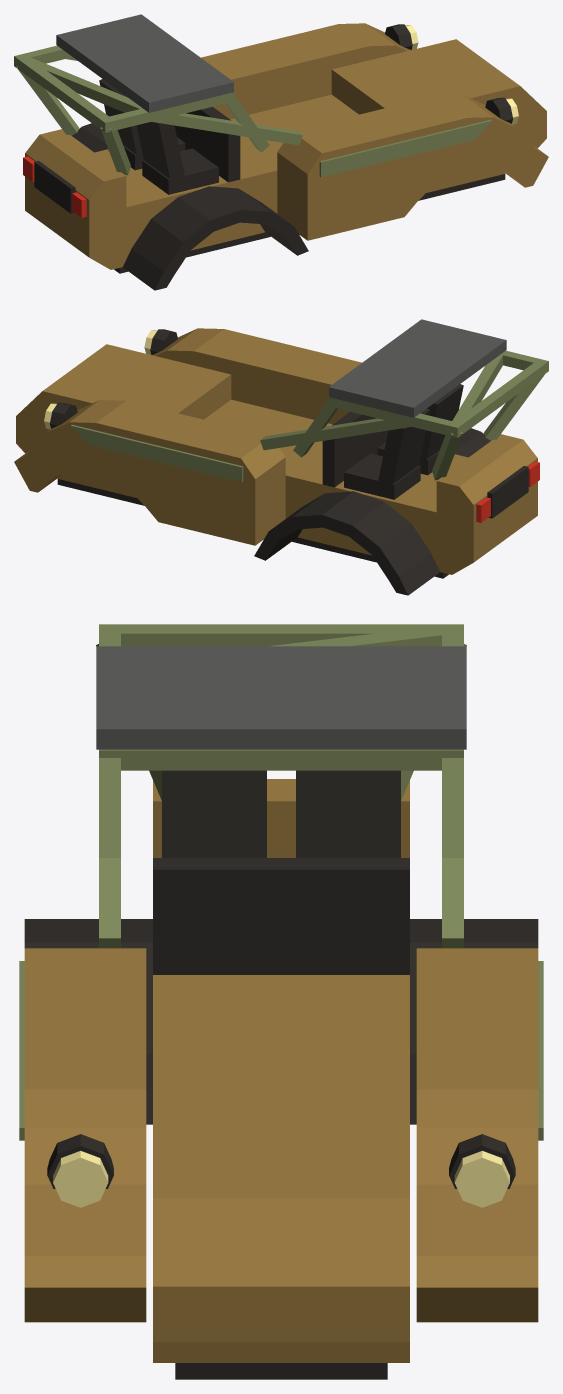
File: base_buggy.glb
The picture shows the model from 3 angles, top to bottom: view 1: azimuth 30°, elevation 25°; view 2: azimuth 150°, elevation 25°; view 3: azimuth 270°, elevation 25°; orthographic projection. The views are drawn at different scales.
Visible parts, largest first — view 1: base_buggy; view 2: base_buggy; view 3: base_buggy.
Boxes of the visible parts, box(x1,y1,x2,y2) form: base_buggy: box(14, 14, 548, 290); base_buggy: box(14, 319, 548, 595); base_buggy: box(19, 624, 543, 1379).
Size of the model in its own units: 3.86 by 1.46 by 1.9.
